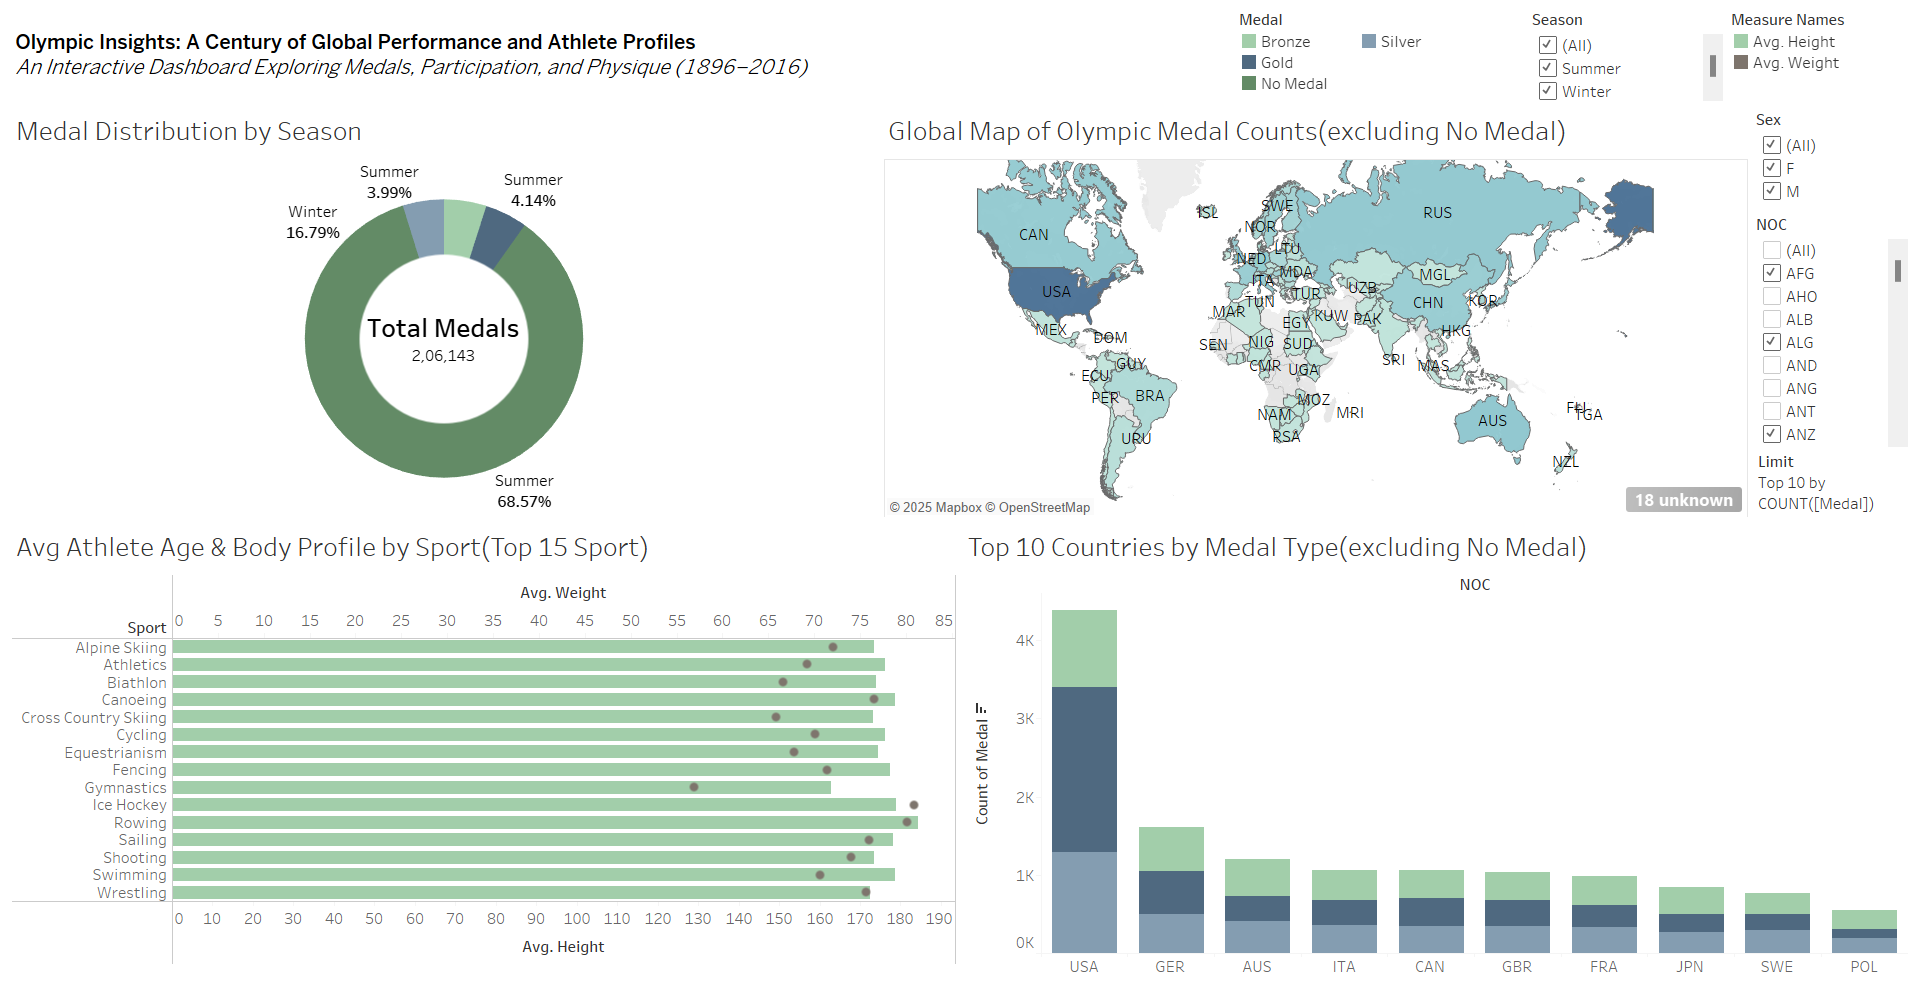

Layout of this report page (visuals, bound fields, positions):
{"tool":"tableau","page":{"name":"Dashboard 1","canvas":[1000,1000],"units":"permille","ordinal":0},"visuals":[{"type":"text","box":[4.8,10,638.2,99.8]},{"type":"legend","title":"Medal Distribution by Season","param":"[federated.1tbc2ql05owbga1dbypq20xxr976].[none:Medal:nk]","box":[643,10,152.6,99.8]},{"type":"filter","title":"Medal Distribution by Season","param":"[federated.1tbc2ql05owbga1dbypq20xxr976].[none:Season:nk]","box":[795.6,10,103.4,99.8]},{"type":"legend","title":"Avg Athlete Age & Body Profile by Sport(Top 15 Sport)","param":"[federated.1tbc2ql05owbga1dbypq20xxr976].[:Measure Names]","box":[899,10,96.2,99.8]},{"type":"worksheet","title":"Medal Distribution by Season","mark":"Pie","cols":["Calculation_2574088665803554821","Calculation_2574088665803567111"],"box":[4.8,109.8,447.1,418.2]},{"type":"worksheet","title":"Global Map of Olympic Medal Counts(excluding No Medal)","mark":"Automatic","box":[451.9,109.8,447.2,418.2]},{"type":"filter","title":"Medal Distribution by Season","param":"[federated.1tbc2ql05owbga1dbypq20xxr976].[none:Sex:nk]","box":[899,109.8,96.2,131.1]},{"type":"filter","title":"Top 10 Countries by Medal Type(excluding No Medal)","param":"[federated.1tbc2ql05owbga1dbypq20xxr976].[none:NOC:nk]","box":[899,240.9,96.2,287.1]},{"type":"worksheet","title":"Avg Athlete Age & Body Profile by Sport(Top 15 Sport)","mark":"Automatic","rows":["Sport"],"cols":["Height","Weight"],"box":[4.8,528,495.1,462]},{"type":"worksheet","title":"Top 10 Countries by Medal Type(excluding No Medal)","mark":"Automatic","rows":["Medal"],"cols":["NOC"],"box":[499.9,528,495.3,462]}]}

Visuals, with their boxes on the dashboard's canvas, which has no fixed pixel size, in thousandths of its width and height (x1, y1, x2, y2). These are canvas units, not pixel positions in the 1919x984 screenshot, which may show the page scaled, cropped or inside an application window:
text: <bbox>5, 10, 643, 110</bbox>
"Medal Distribution by Season" legend: <bbox>643, 10, 796, 110</bbox>
"Medal Distribution by Season" filter: <bbox>796, 10, 899, 110</bbox>
"Avg Athlete Age & Body Profile by Sport(Top 15 Sport)" legend: <bbox>899, 10, 995, 110</bbox>
"Medal Distribution by Season" worksheet (Pie marks): <bbox>5, 110, 452, 528</bbox>
"Global Map of Olympic Medal Counts(excluding No Medal)" worksheet: <bbox>452, 110, 899, 528</bbox>
"Medal Distribution by Season" filter: <bbox>899, 110, 995, 241</bbox>
"Top 10 Countries by Medal Type(excluding No Medal)" filter: <bbox>899, 241, 995, 528</bbox>
"Avg Athlete Age & Body Profile by Sport(Top 15 Sport)" worksheet: <bbox>5, 528, 500, 990</bbox>
"Top 10 Countries by Medal Type(excluding No Medal)" worksheet: <bbox>500, 528, 995, 990</bbox>
